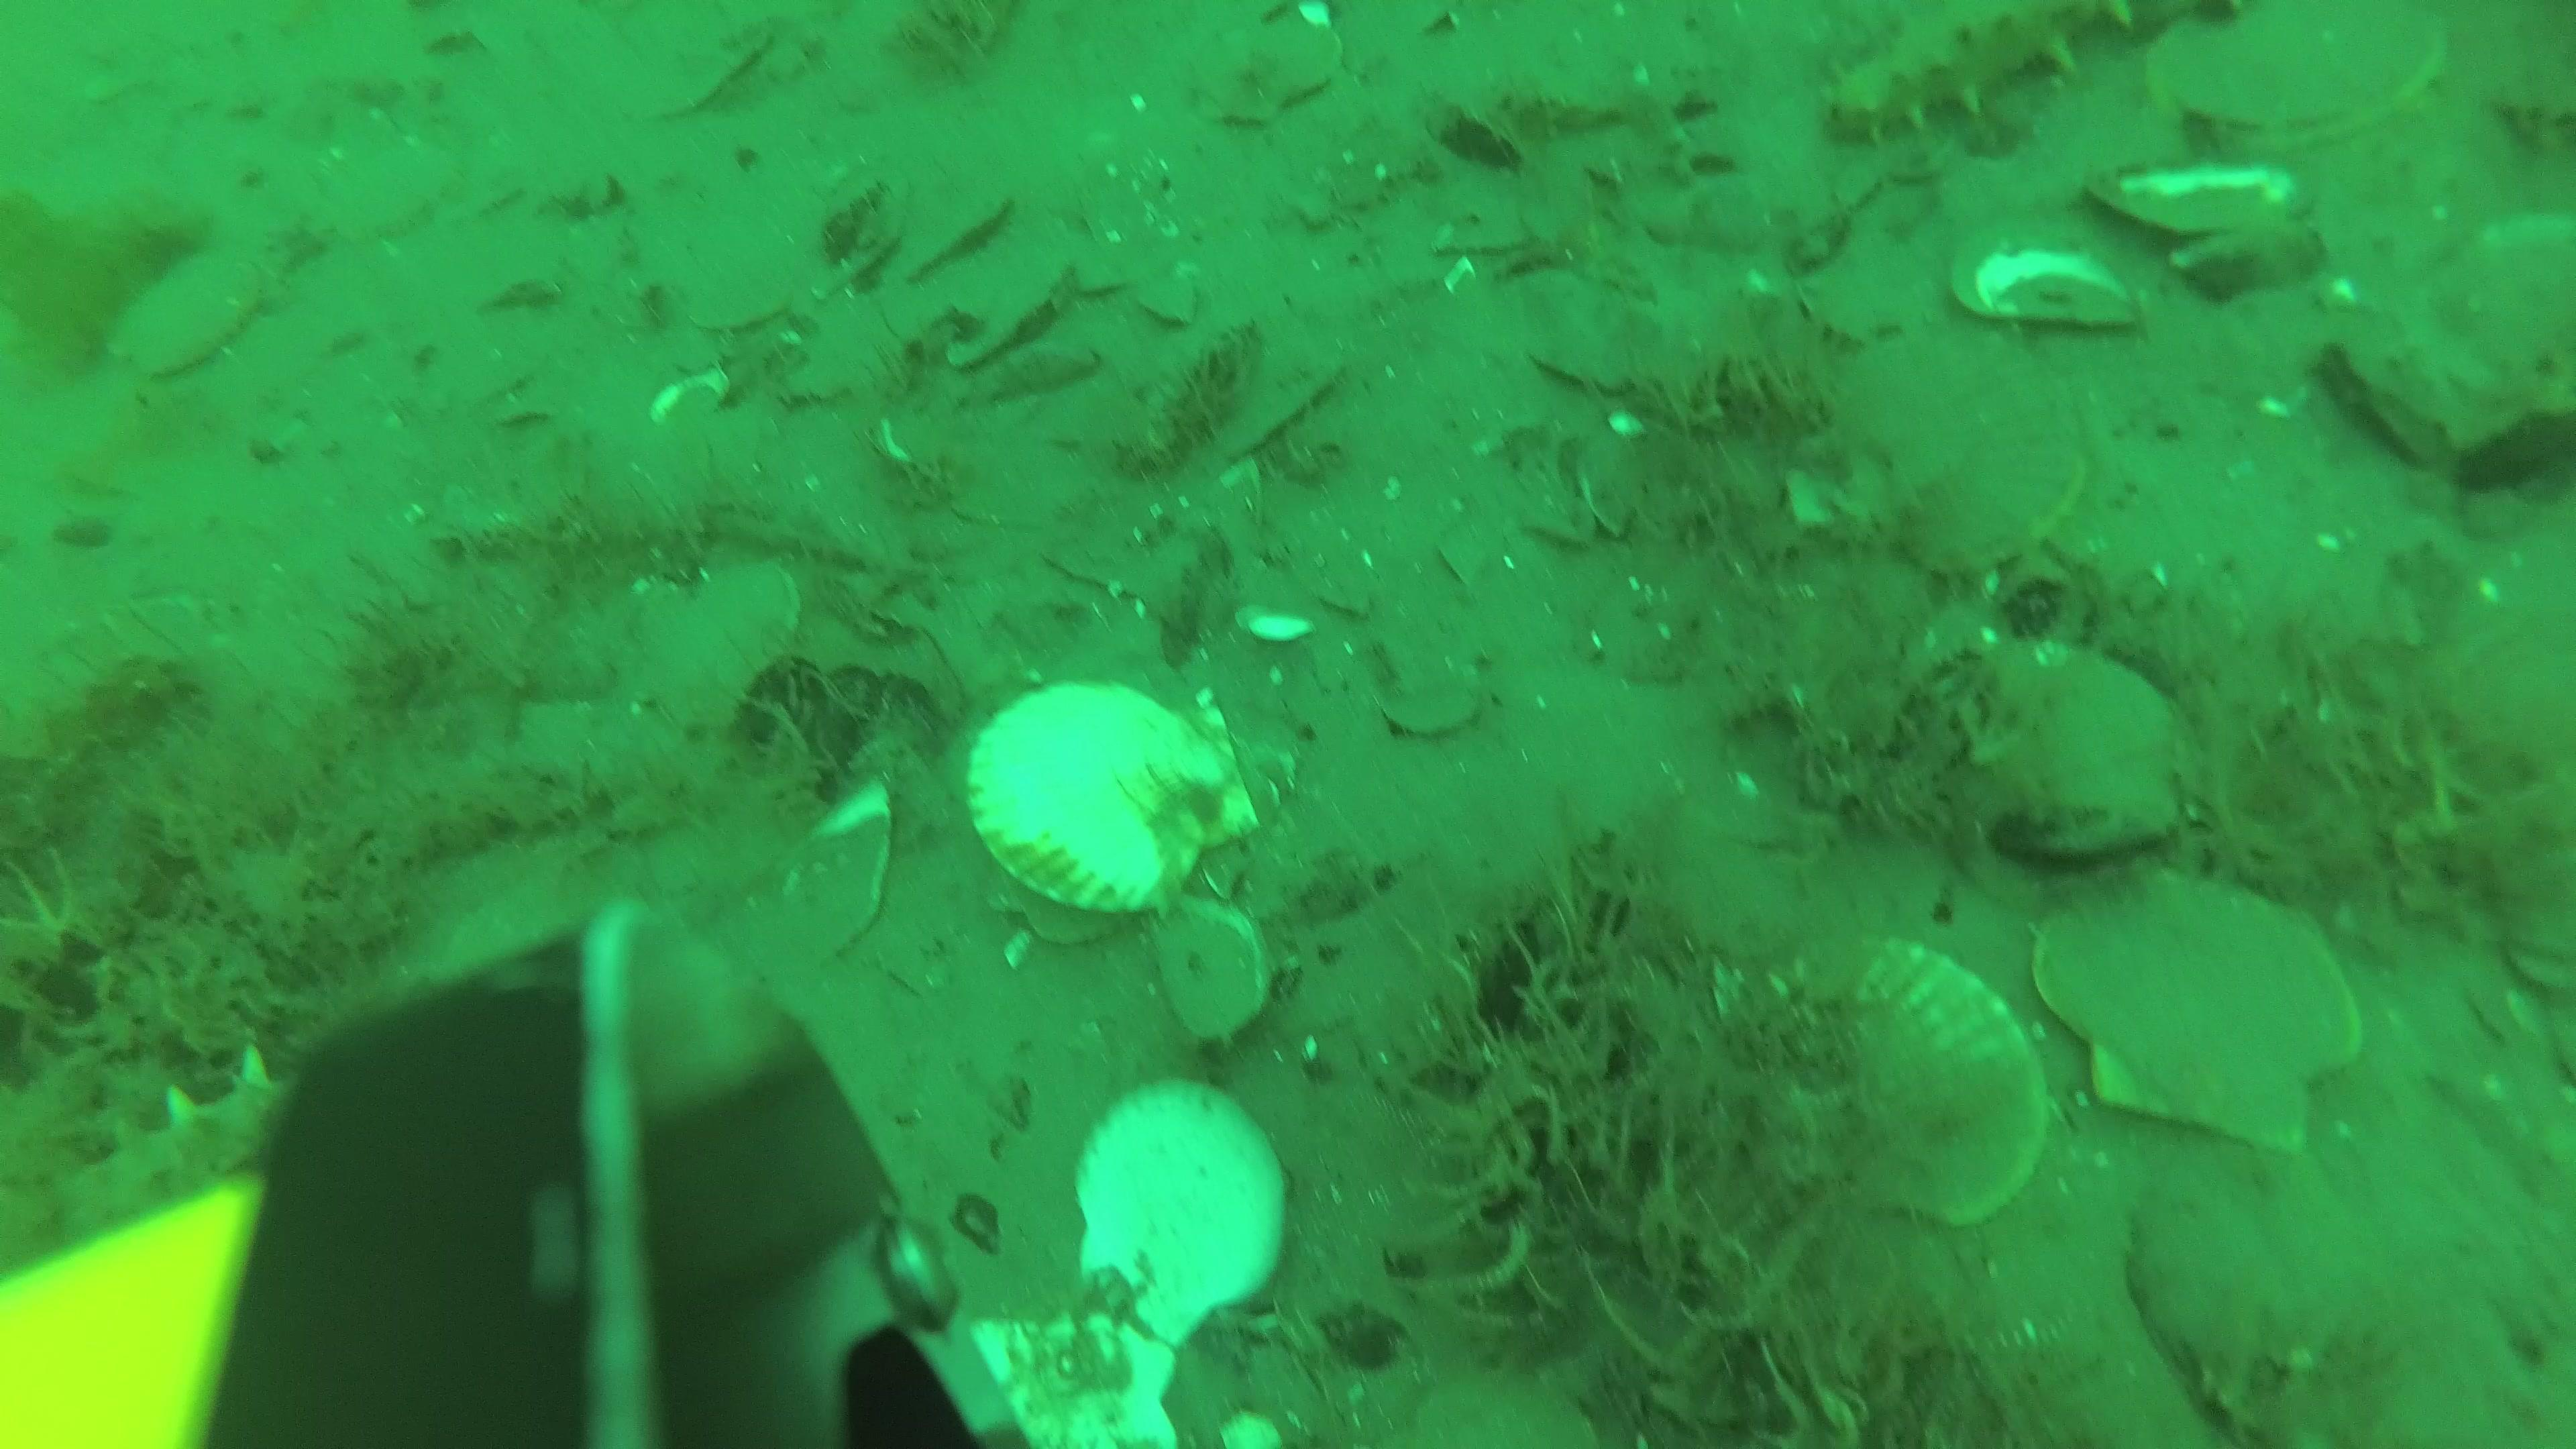holothurian: (5, 1053, 287, 1260), (1810, 2, 2164, 136)
scallop: (2031, 865, 2362, 1157), (1744, 934, 2054, 1235), (970, 676, 1267, 931), (1815, 317, 2098, 575), (1916, 637, 2199, 865), (1072, 1085, 1286, 1350), (2146, 7, 2454, 168), (623, 570, 805, 734), (99, 248, 274, 375), (1810, 244, 1950, 349)
